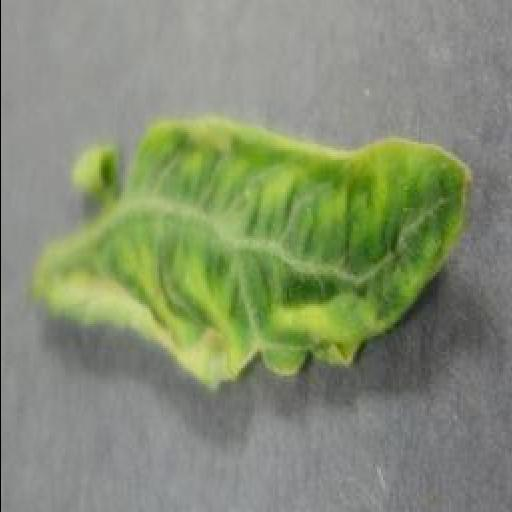disease_tomato: (30, 120, 474, 390)
